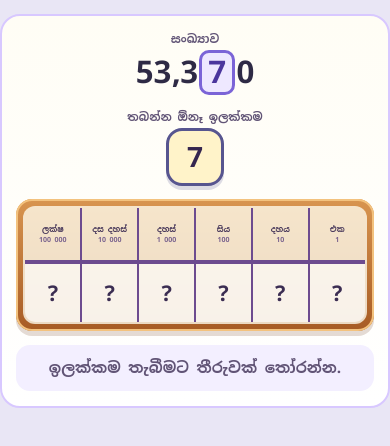
Scenario: Number World place-value table › submits represented value and describes every answer in Sinhala
Click the 5th button "?": coordinates (280, 293) [253,264,308,322]
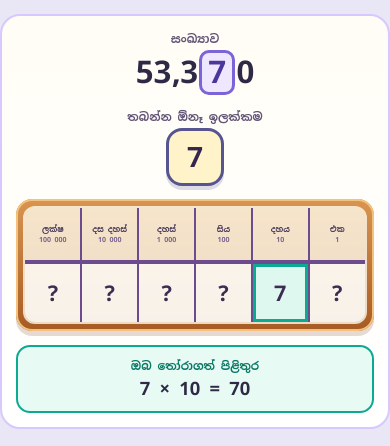
expect the element showing "ඔබ තෝරාගත් පිළිතුර 7 × 10 = 70" is shown: met, box [16,345,374,413]
